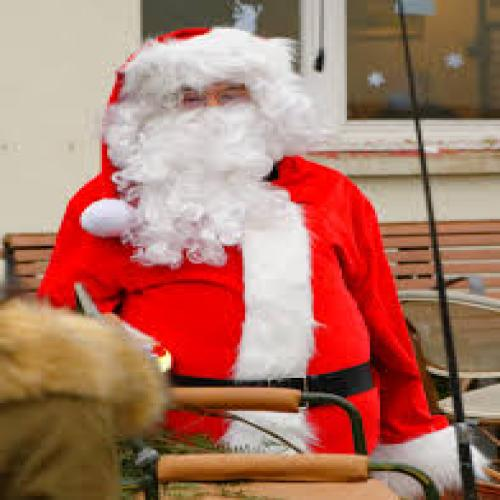Santa: (33, 25, 495, 498)
